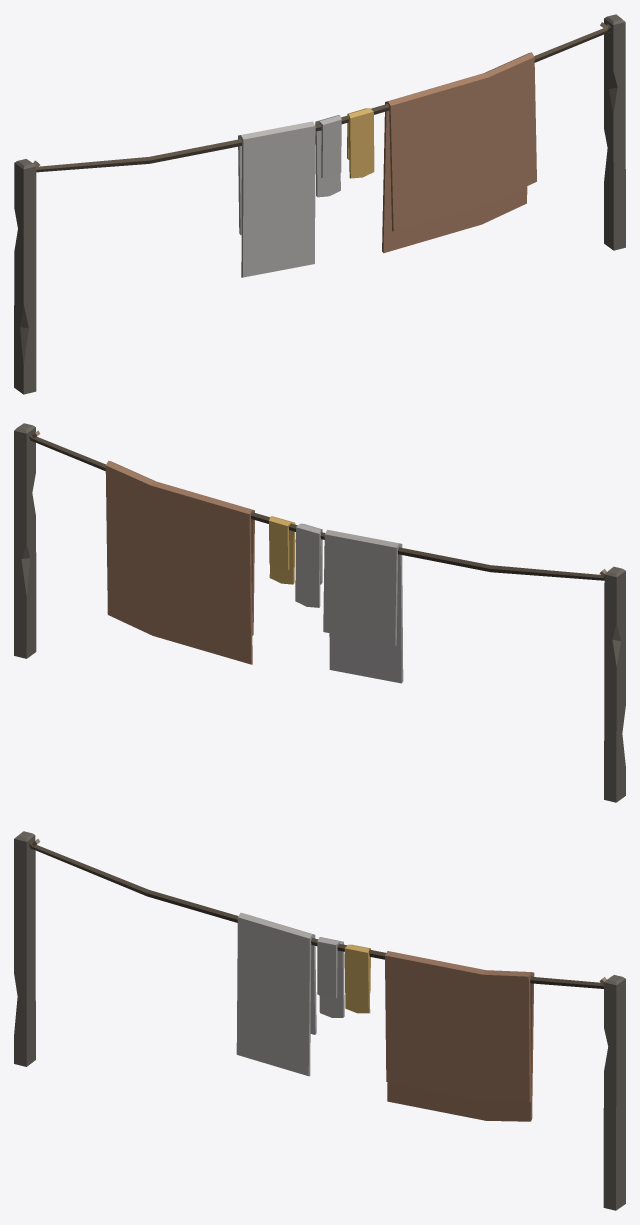
The model's file is SM_Prop_Washingline_01.fbx.
The picture shows the model from 3 angles, top to bottom: view 1: azimuth 30°, elevation 25°; view 2: azimuth 150°, elevation 25°; view 3: azimuth 330°, elevation 25°; orthographic projection.
Parts seen in each view (by area): view 1: SM_Prop_Washingline_01, SM_Prop_Washingline_Poles_01; view 2: SM_Prop_Washingline_01, SM_Prop_Washingline_Poles_01; view 3: SM_Prop_Washingline_01, SM_Prop_Washingline_Poles_01.
Part boxes in pixels (left/top/right/bottom): SM_Prop_Washingline_01: left=33, top=22, right=610, bottom=277; SM_Prop_Washingline_Poles_01: left=14, top=14, right=625, bottom=394; SM_Prop_Washingline_01: left=29, top=430, right=606, bottom=683; SM_Prop_Washingline_Poles_01: left=14, top=423, right=625, bottom=802; SM_Prop_Washingline_01: left=29, top=838, right=606, bottom=1121; SM_Prop_Washingline_Poles_01: left=14, top=831, right=625, bottom=1210.
Size of the model in its own units: 708 by 255 by 19.64.
